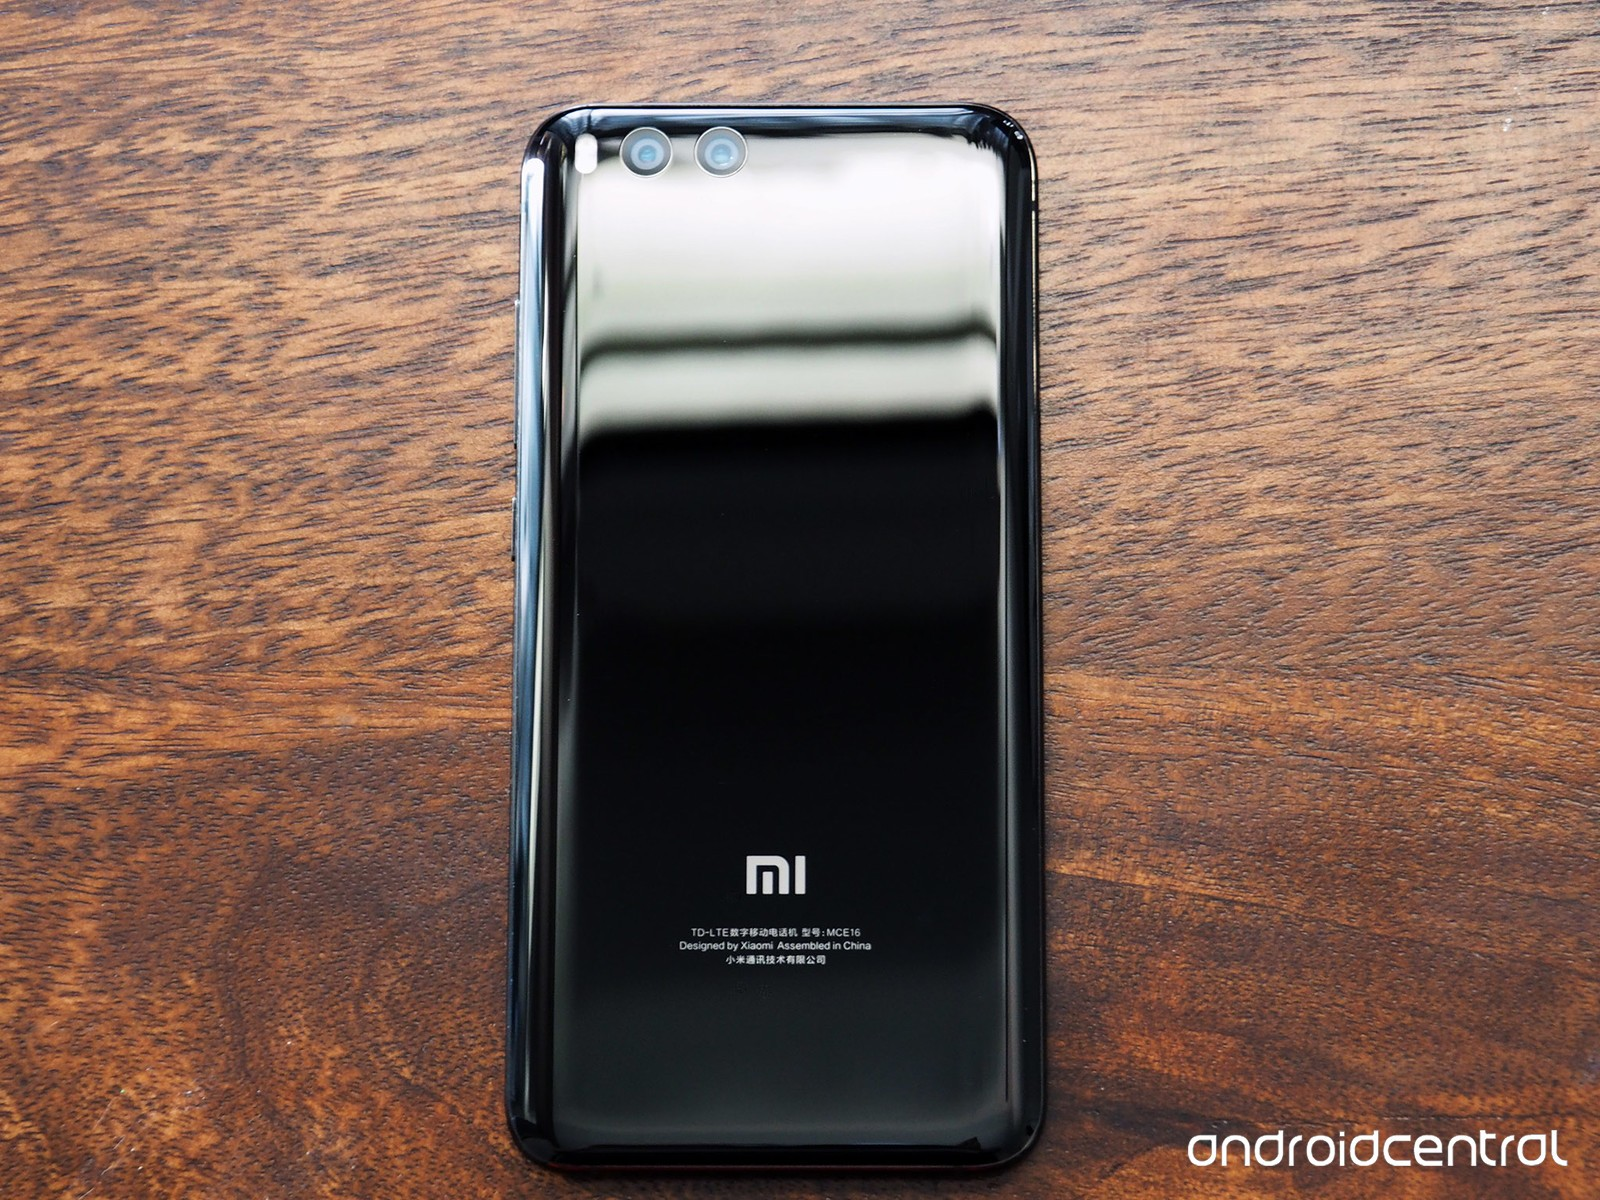smartphone: (501, 103, 1044, 1176)
